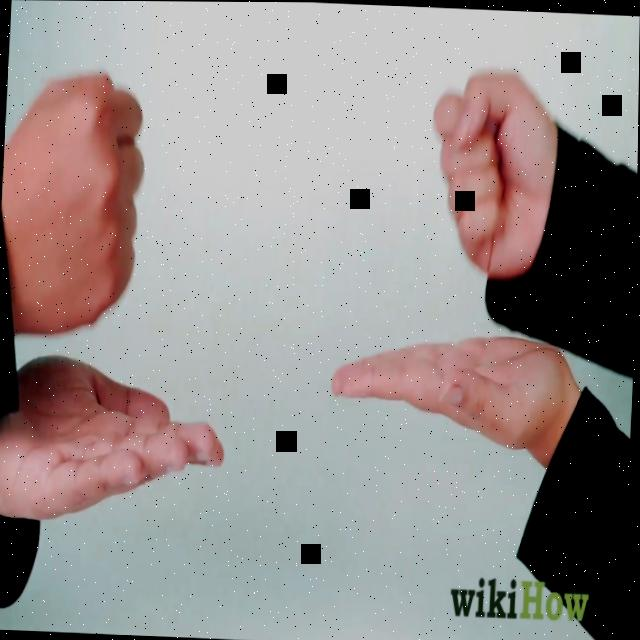Rock: (0, 65, 149, 342), (424, 64, 561, 279)
